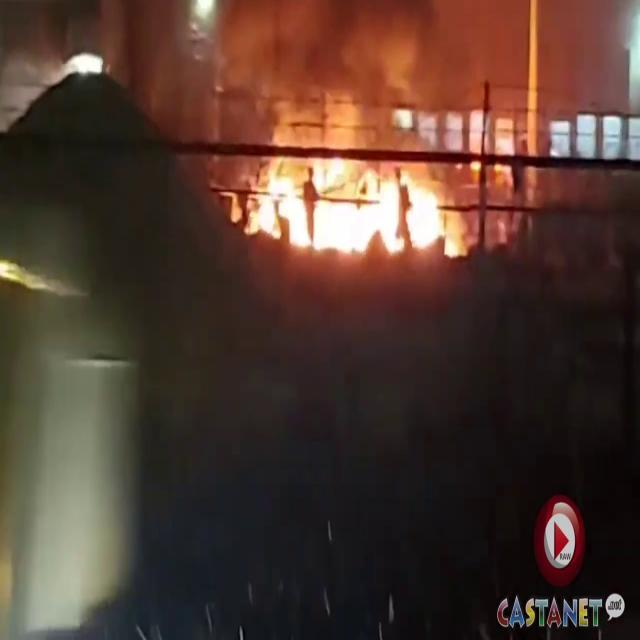Fire: (238, 116, 474, 266)
